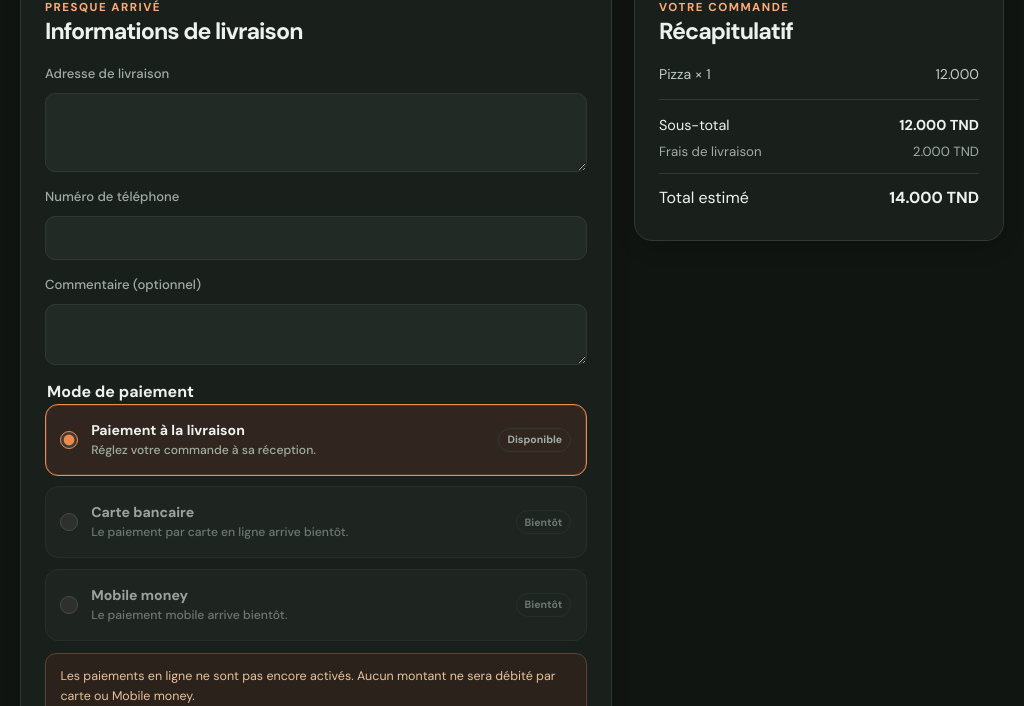
Test: CheckoutPage payment options › submits the selected available payment method with the order
Type "Rue de la Paix" into the text box labelled "Adresse de livraison" at (316, 133), box [45,93,587,172]
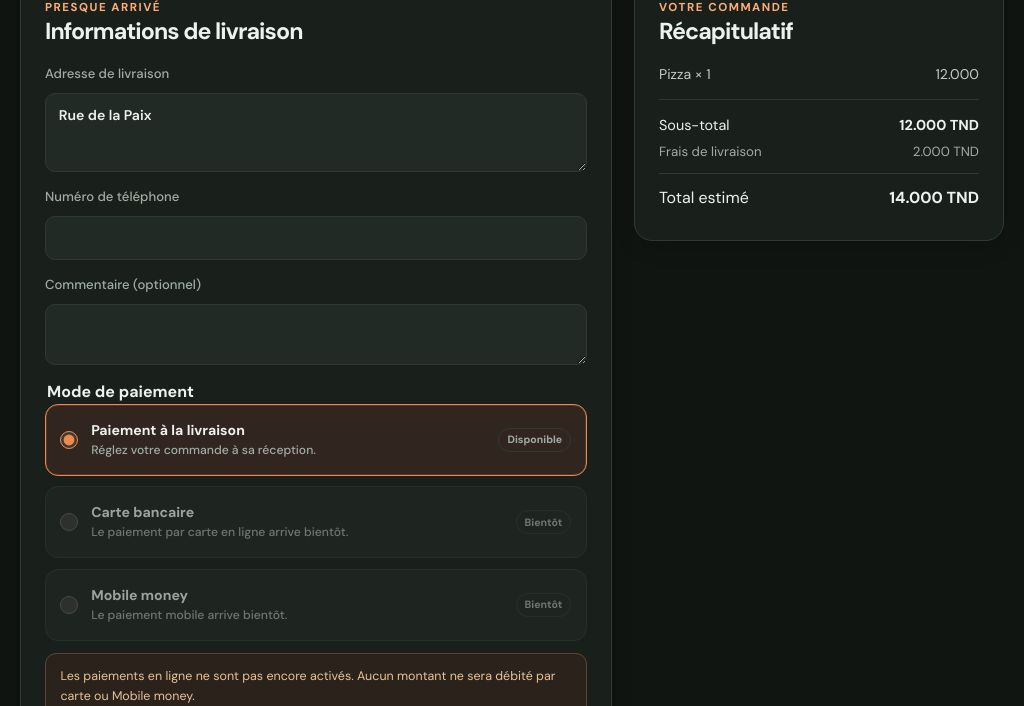
Type "20123456" into the field labelled "Numéro de téléphone" at (316, 238), box [45,216,587,260]
(page scrolled)
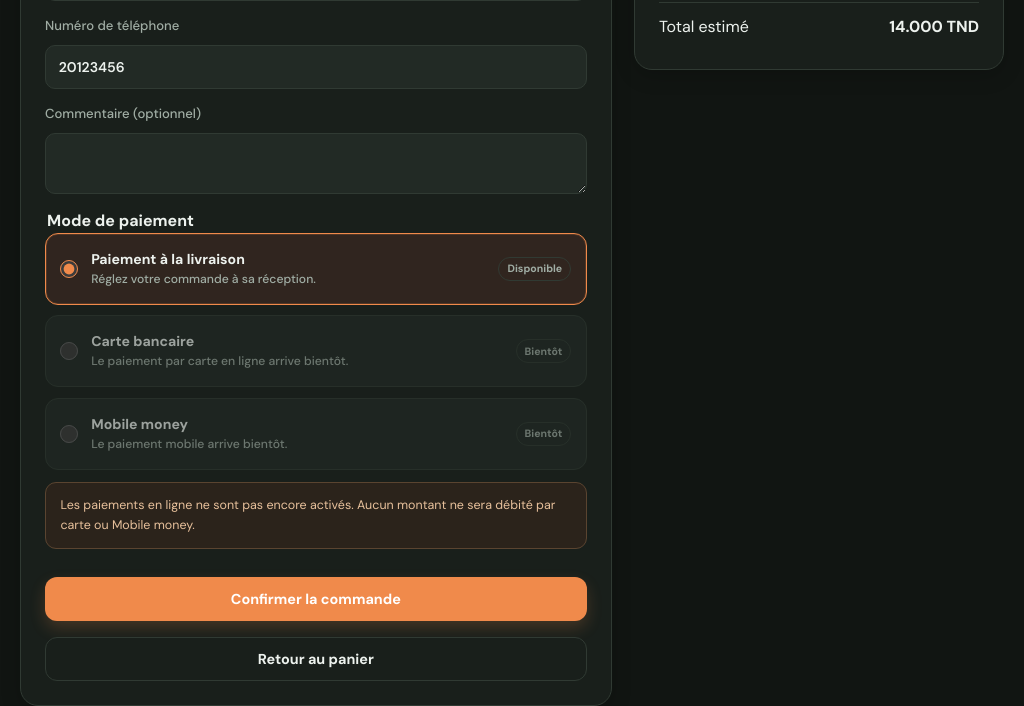
Click the button "Confirmer la commande" at (316, 599), box [45,577,587,621]
(page scrolled)
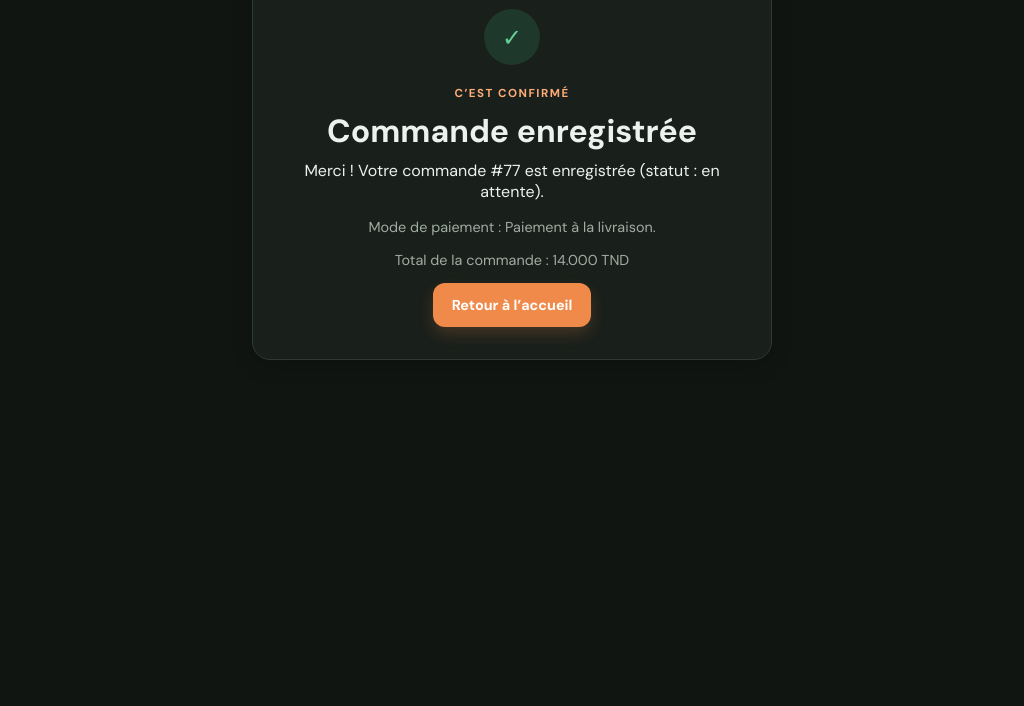
Result: the heading "Commande enregistrée" is shown at [327,110,697,152]
